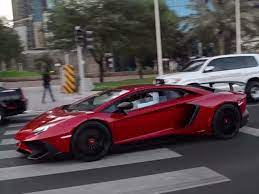Lamborghini: (10, 82, 250, 157)
